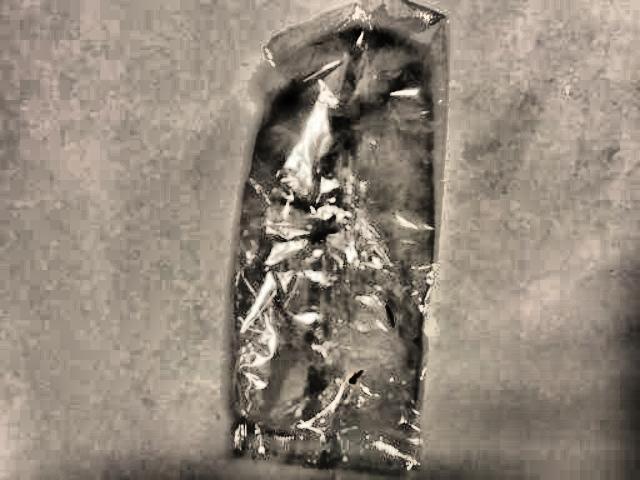Plastic: (175, 10, 550, 480)
